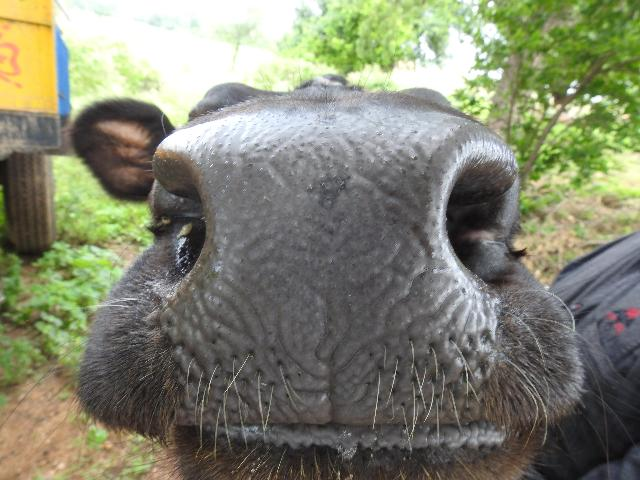Muzzle: (204, 128, 452, 408)
